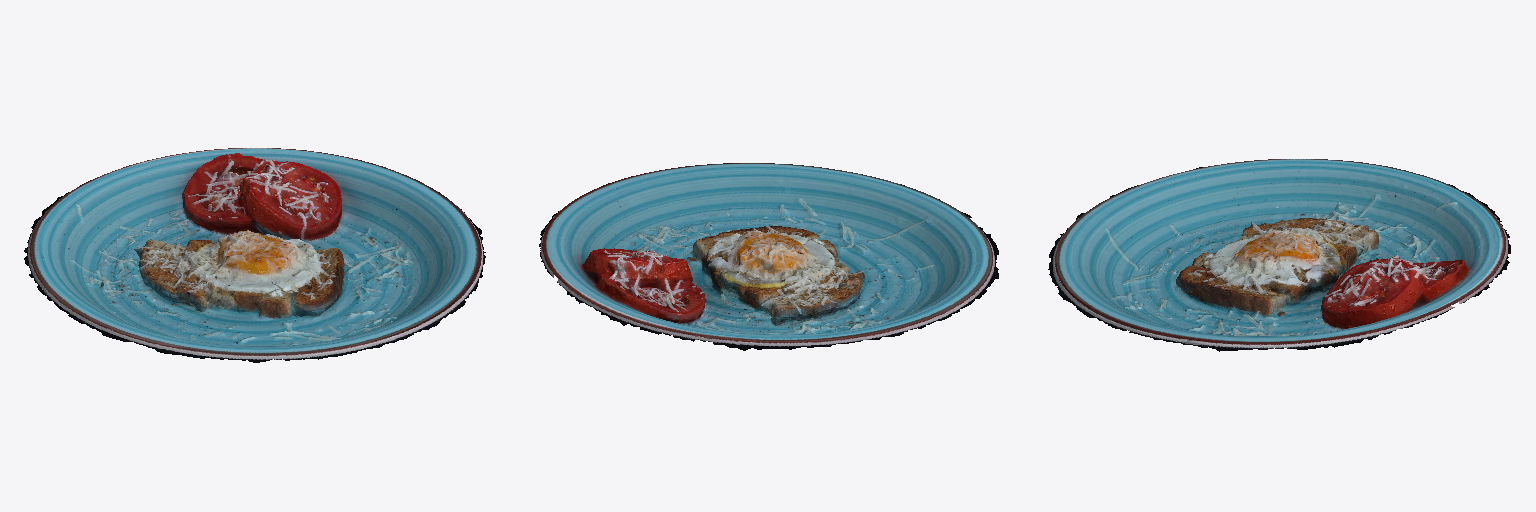
3 views of the same model, side by side, from view 1: azimuth 30°, elevation 25°; view 2: azimuth 150°, elevation 25°; view 3: azimuth 270°, elevation 25° (orthographic).
Bounding box in the file's own units: 0.391 × 0.055 × 0.3926.
1 materials, 1 textured.